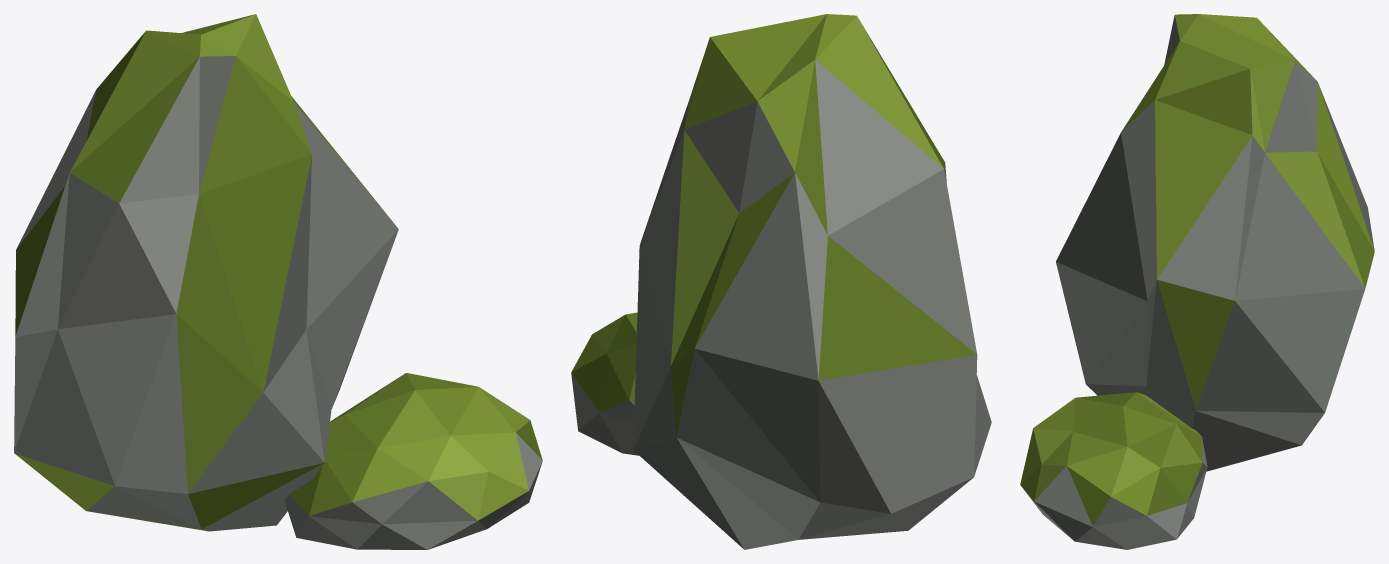
File: zen_rock_moss.glb
The picture shows the model from 3 angles, left to right: view 1: azimuth 30°, elevation 25°; view 2: azimuth 150°, elevation 25°; view 3: azimuth 270°, elevation 25°; orthographic projection. The views are drawn at different scales.
Visible parts, largest first — view 1: zen_rock_moss; view 2: zen_rock_moss; view 3: zen_rock_moss.
Boxes of the visible parts, x1,y1,x2,y2 form: zen_rock_moss: (14,14,542,549); zen_rock_moss: (571,14,991,549); zen_rock_moss: (1020,14,1374,549).
Bounding box in the file's own units: 1.79 × 1.91 × 1.41.
